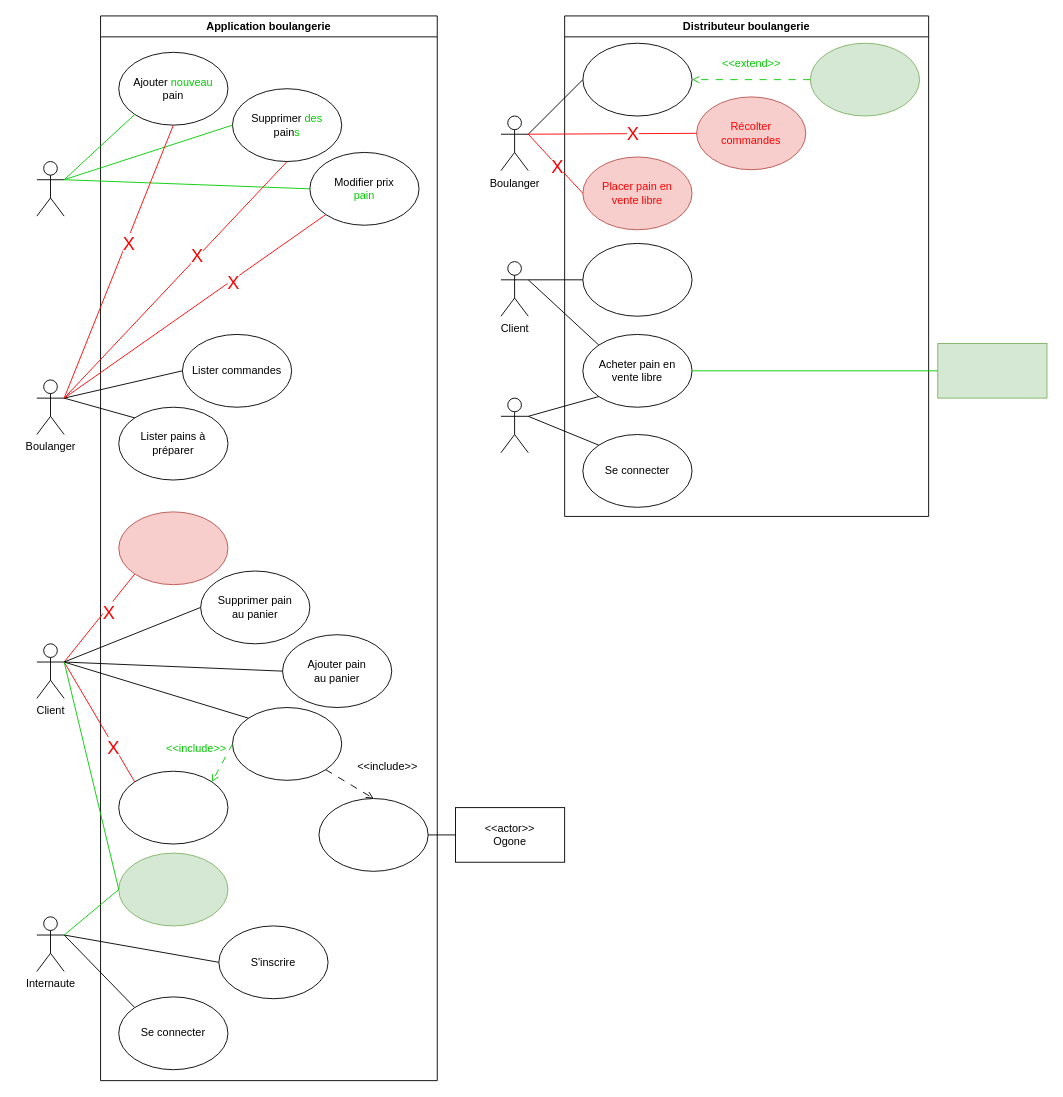
Image size: 1063x1097. Some labels were removed from this diagram. The centre of each missing label's shape, as x and y in pixels:
"<<actor>> banque" belongs at (992,370).
"Administrateur" belongs at (50,188).
"Consulter carte des pains" belongs at (173,889).
"Disposer commandes et pains" belongs at (637,79).
"Internaute Passant" belongs at (514,425).
"Passer commande" belongs at (287,743).
"Payer commande" belongs at (373,834).
"Préciser tranche horaire" belongs at (173,807).
"Retirer commande" belongs at (637,279).
"Retirer commandes et pains périmés" belongs at (864,79).
"Valider panier" belongs at (173,548).
